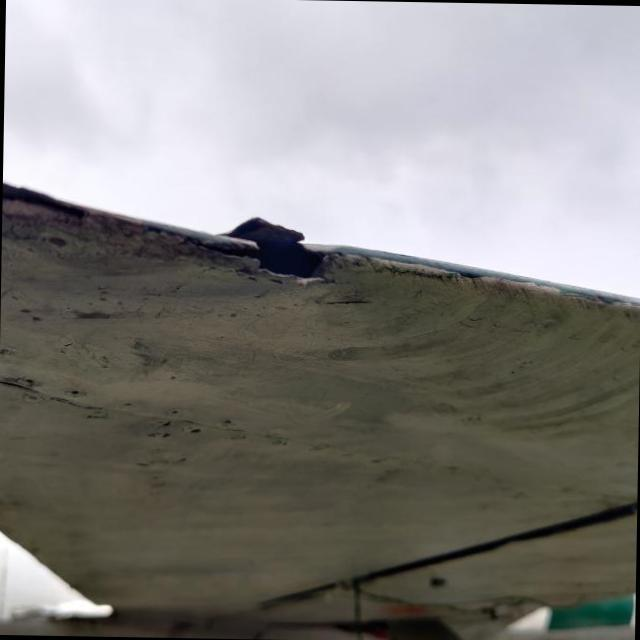Rupture: (196, 211, 354, 297)
